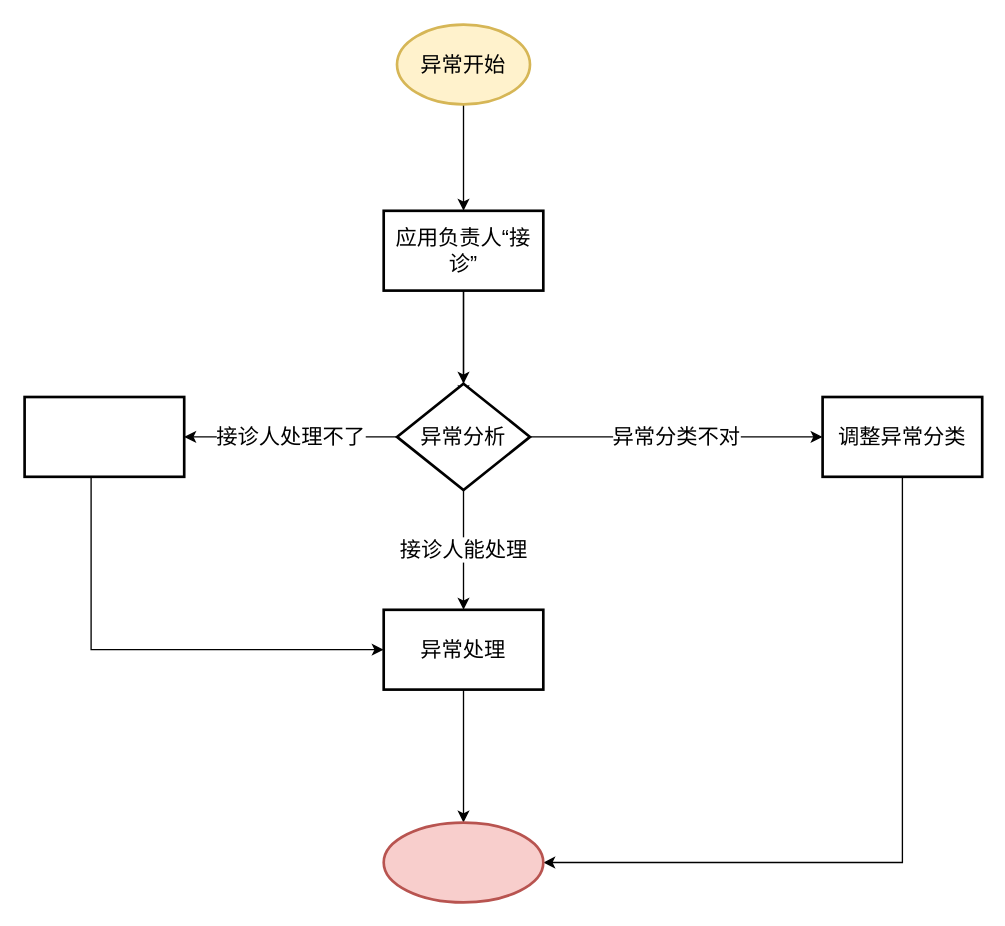
Image size: 1005x926. Some labels were removed from this diagram. Here are the shapes that lost their labels. From the top down, the box of each, then its label:
(23, 395, 185, 477): 转办对应的开发
(382, 821, 544, 903): 结束
